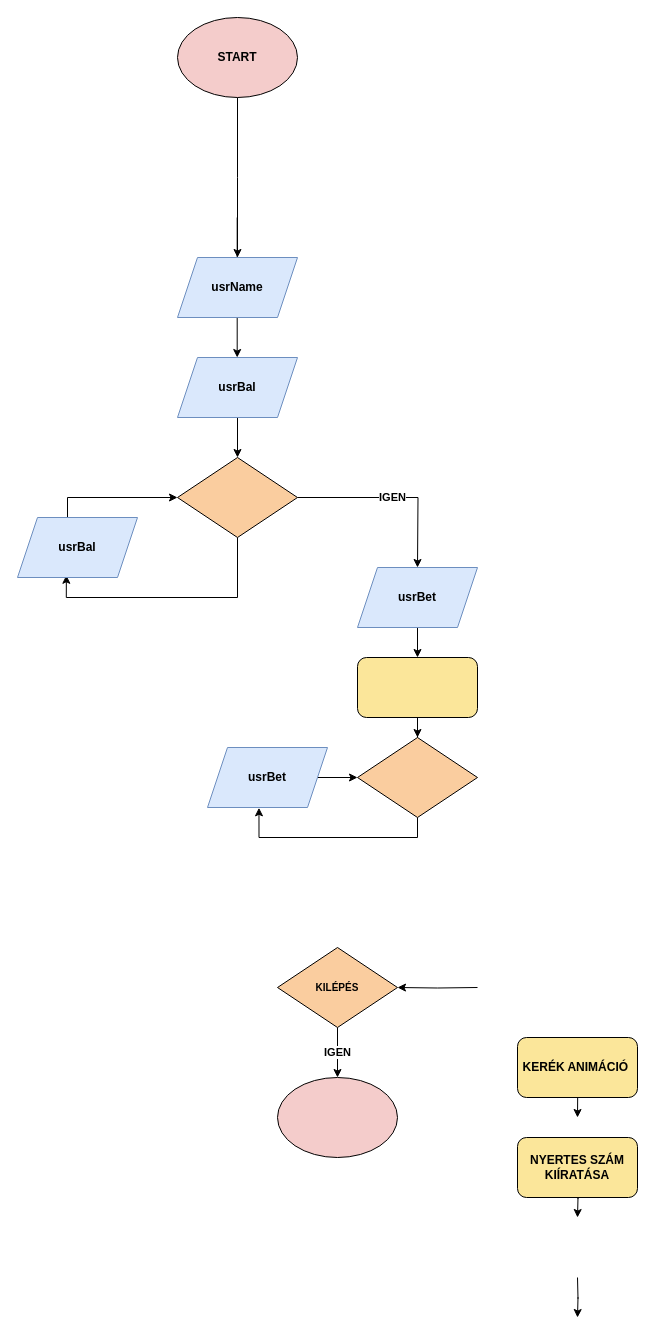
The diagram is 655 pixels wide and 1343 high, and some of its shapes have lost their labels. The shapes that lost their labels are listed below. From the top down, each one's centre as x and y in pixels, then its label:
point 237,497: if (int.TryParse(usrBal))
point 417,687: usrBal - = usrBet
point 417,777: if (userBet > usrBal)
point 337,1117: END
